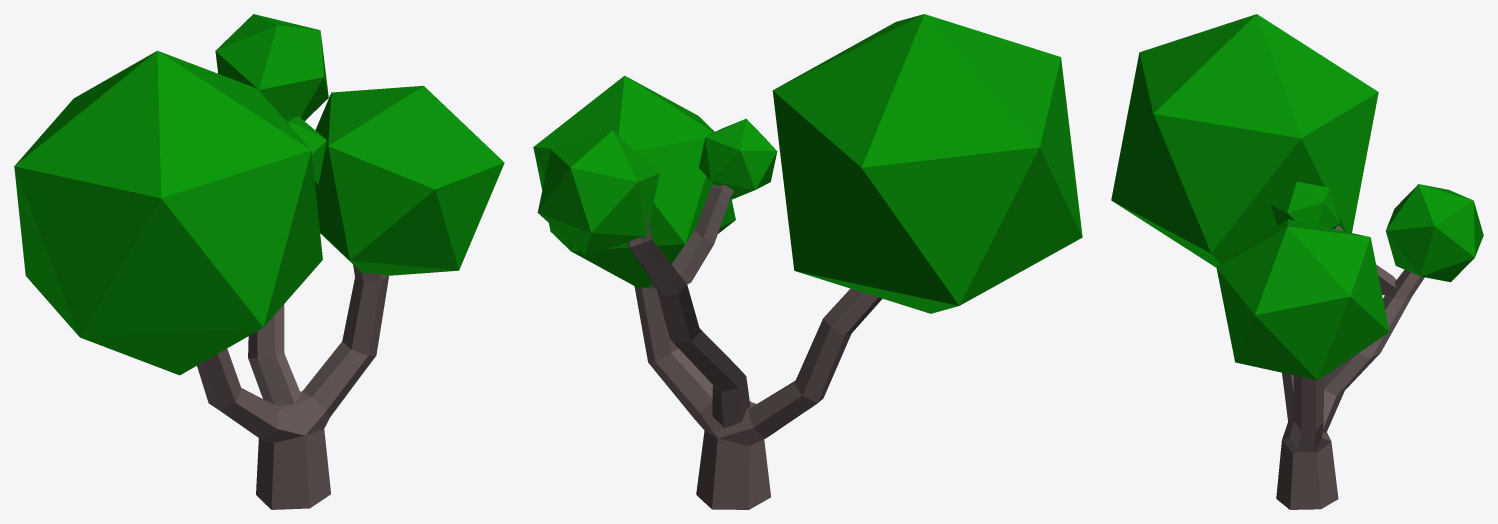
The model's file is Wood_V2.fbx.
The picture shows the model from 3 angles, left to right: view 1: azimuth 30°, elevation 25°; view 2: azimuth 150°, elevation 25°; view 3: azimuth 270°, elevation 25°; orthographic projection. The views are drawn at different scales.
Visible parts, largest first — view 1: Wood_V2; view 2: Wood_V2; view 3: Wood_V2.
Boxes of the visible parts, bbox=[...] form: Wood_V2: bbox=[14, 14, 504, 509]; Wood_V2: bbox=[533, 14, 1082, 509]; Wood_V2: bbox=[1111, 14, 1483, 509].
Size of the model in its own units: 6.22 by 6.34 by 5.1.
